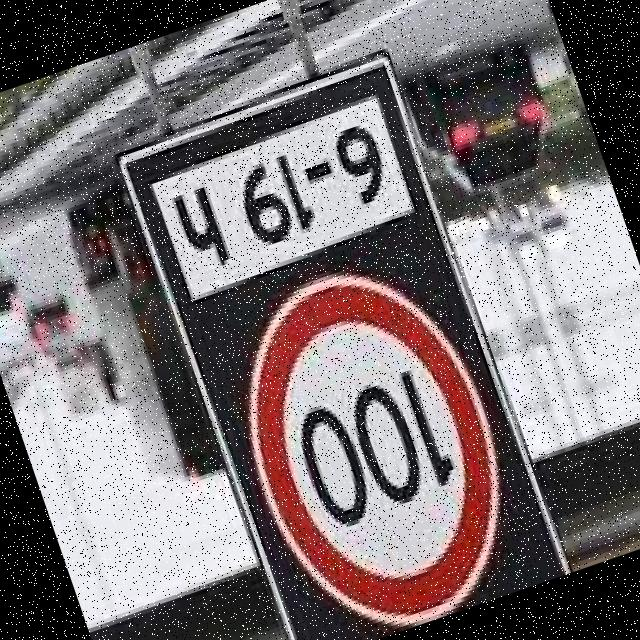speed_limit_100: (194, 236, 545, 640)
